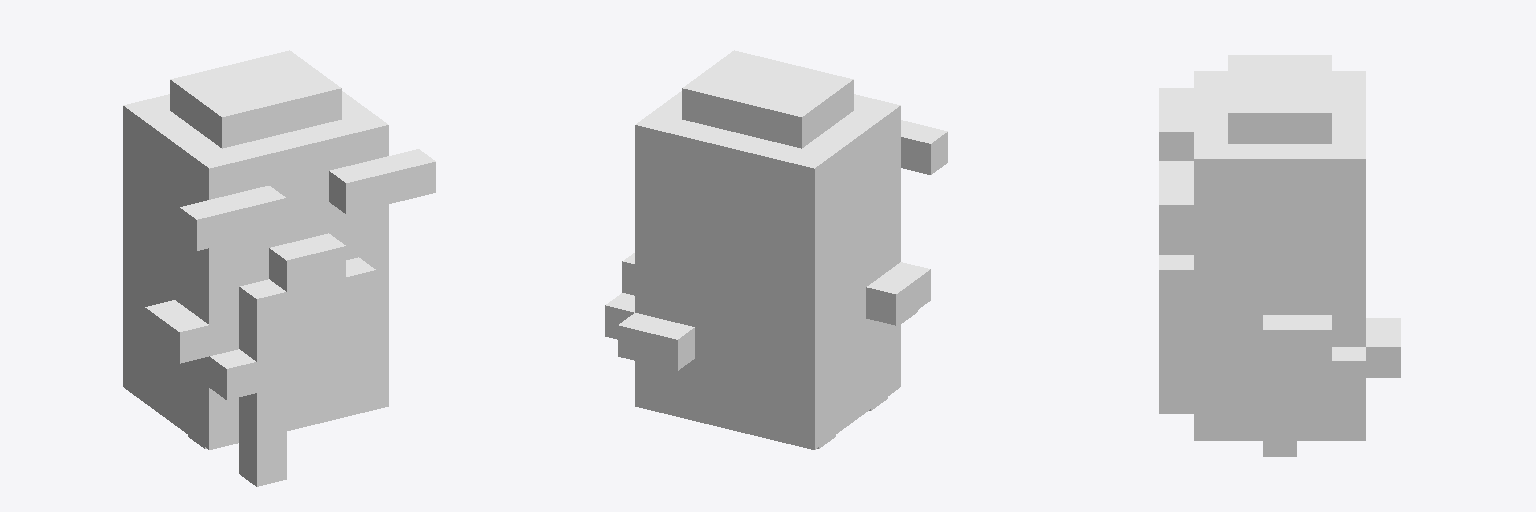
File: chinaopi.obj
3 views of the same model, side by side, from view 1: azimuth 30°, elevation 25°; view 2: azimuth 150°, elevation 25°; view 3: azimuth 270°, elevation 25° (orthographic).
Size of the model in its own units: 8 by 11 by 7.